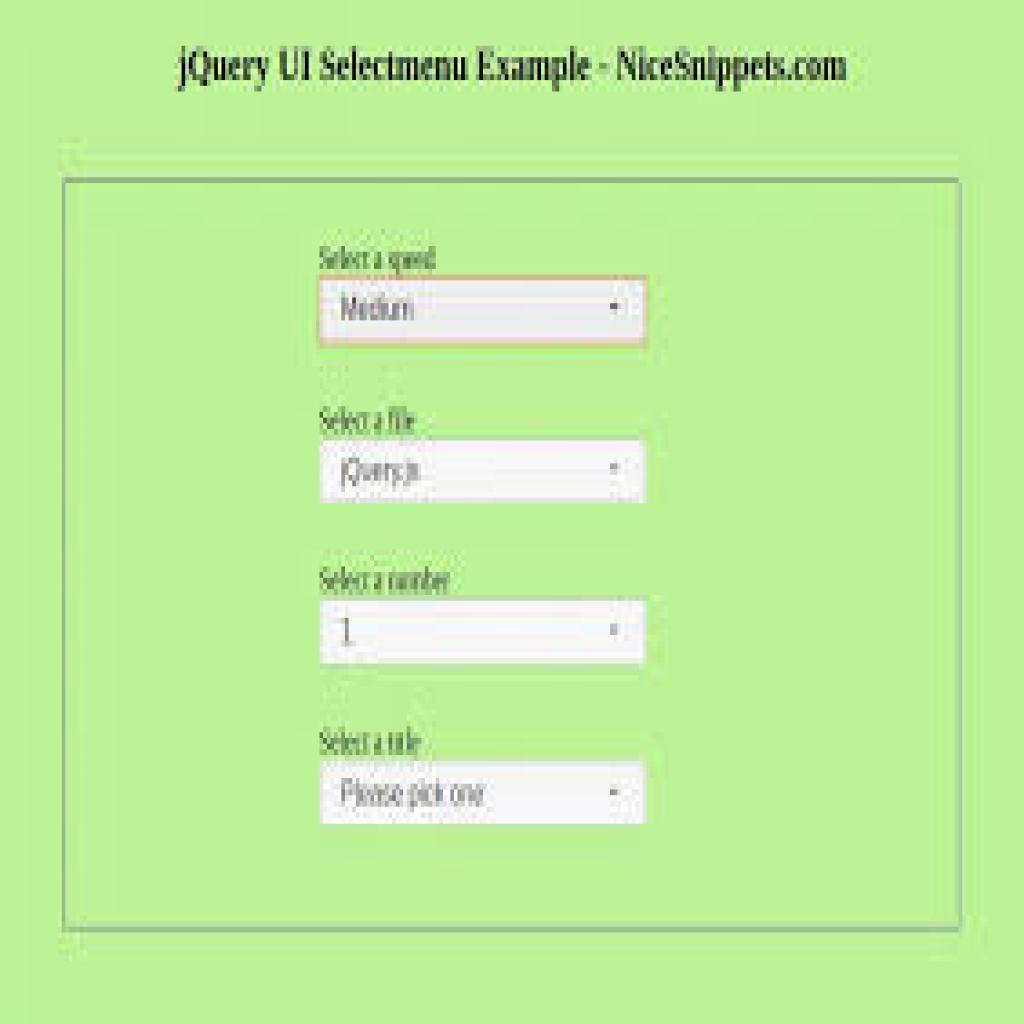dropdown: (319, 276, 649, 347), (320, 764, 645, 827), (319, 441, 646, 503), (317, 603, 647, 664)
